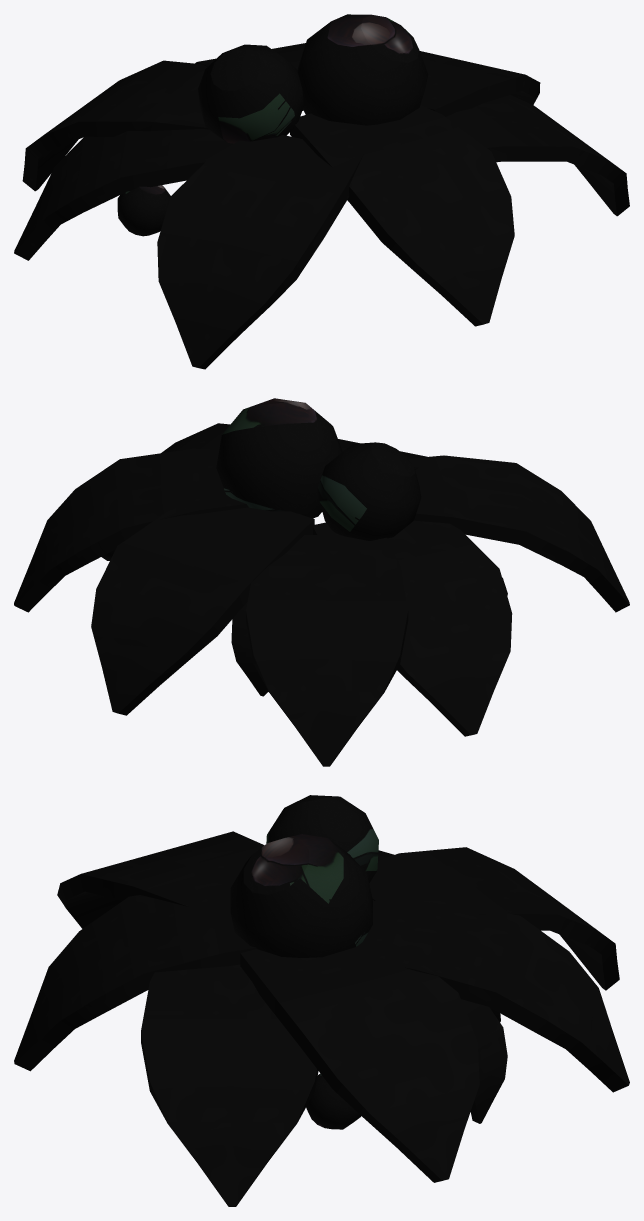
File: ChapeuCoqueiro.fbx
The picture shows the model from 3 angles, top to bottom: view 1: azimuth 30°, elevation 25°; view 2: azimuth 150°, elevation 25°; view 3: azimuth 270°, elevation 25°; orthographic projection. The views are drawn at different scales.
Parts seen in each view (by area): view 1: ChapeuCoqueiro; view 2: ChapeuCoqueiro; view 3: ChapeuCoqueiro.
Boxes of the visible parts, x1,y1,x2,y2 form: ChapeuCoqueiro: [14, 14, 629, 369]; ChapeuCoqueiro: [14, 398, 629, 766]; ChapeuCoqueiro: [14, 795, 629, 1206].
Bounding box in the file's own units: 283 × 121 × 271.
